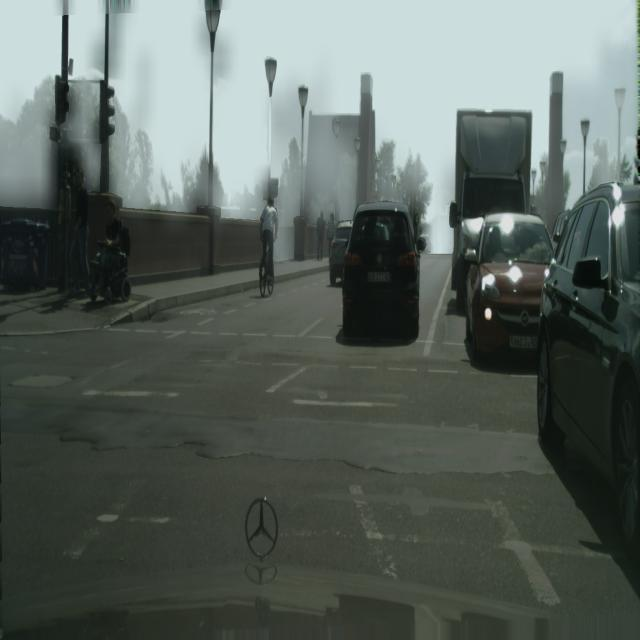bus: (91, 200, 122, 302), (69, 167, 90, 295), (259, 194, 278, 289), (316, 209, 326, 262), (327, 212, 336, 251)
car: (448, 108, 532, 312)
person: (536, 181, 640, 562), (465, 210, 553, 359), (341, 201, 421, 341), (328, 222, 352, 286)
truck: (259, 234, 275, 297)
